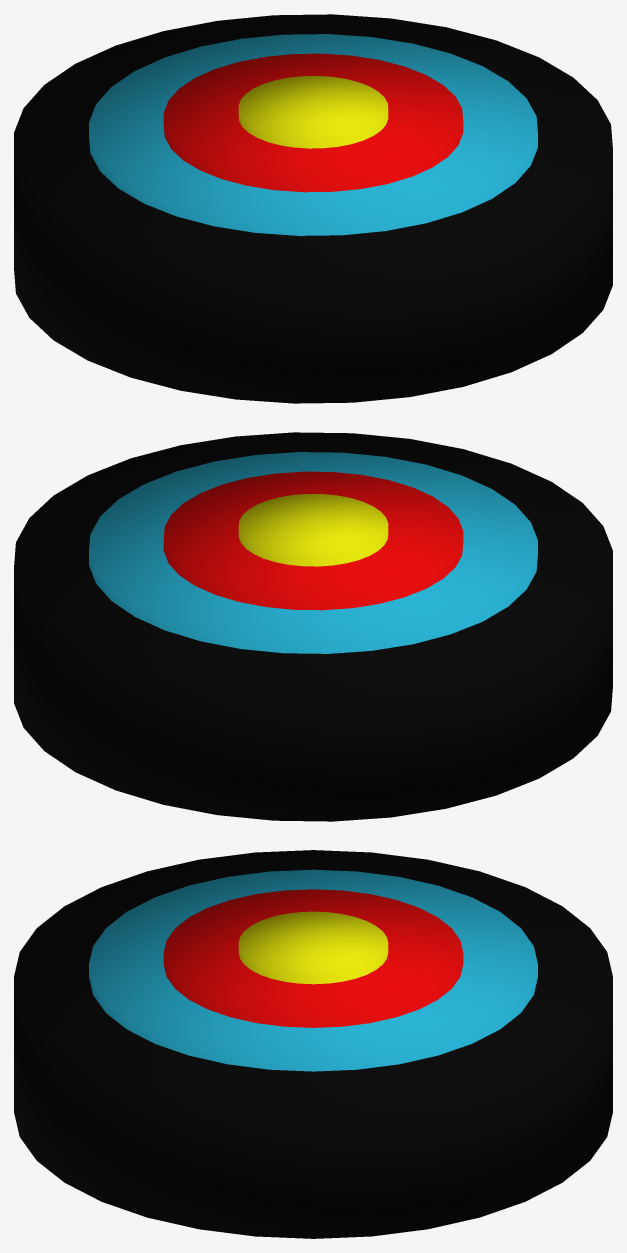
Rendered from Blanco.fbx.
The picture shows the model from 3 angles, top to bottom: view 1: azimuth 30°, elevation 25°; view 2: azimuth 150°, elevation 25°; view 3: azimuth 270°, elevation 25°; orthographic projection.
Visible parts, largest first — view 1: Cylinder.003, Cylinder.002, Cylinder.001, Cylinder; view 2: Cylinder.003, Cylinder.002, Cylinder.001, Cylinder; view 3: Cylinder.003, Cylinder.002, Cylinder.001, Cylinder.
Part boxes in pixels (x1=…): Cylinder.003: x1=14, y1=14, x2=612, y2=403; Cylinder.002: x1=89, y1=34, x2=537, y2=235; Cylinder.001: x1=163, y1=53, x2=463, y2=192; Cylinder: x1=238, y1=76, x2=388, y2=148; Cylinder.003: x1=14, y1=432, x2=612, y2=821; Cylinder.002: x1=89, y1=452, x2=537, y2=653; Cylinder.001: x1=163, y1=471, x2=463, y2=610; Cylinder: x1=238, y1=494, x2=388, y2=566; Cylinder.003: x1=14, y1=850, x2=612, y2=1238; Cylinder.002: x1=89, y1=869, x2=537, y2=1071; Cylinder.001: x1=163, y1=889, x2=463, y2=1027; Cylinder: x1=238, y1=911, x2=388, y2=984.
Bounding box in the file's own units: 8 × 2.49 × 8.
